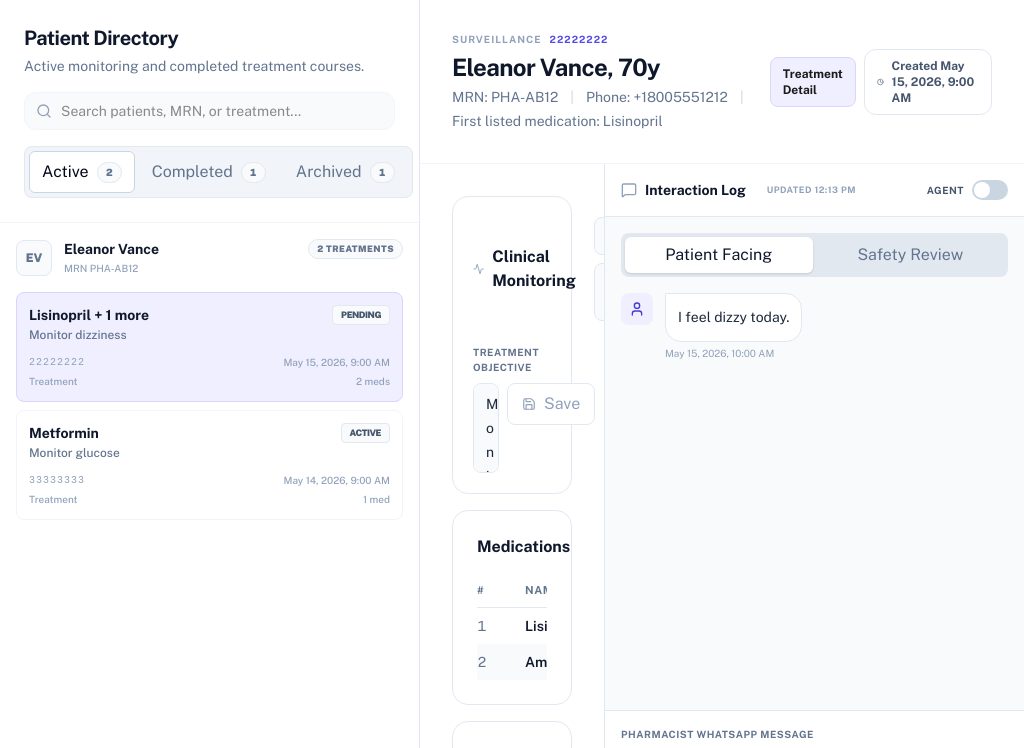
Test case: PatientManagementPage › separates completed treatments and links them to the report view
Expected: the text "Eleanor Vance" is shown, x1=64 y1=239 x2=159 y2=259
Expected: the text "Marcus Chen" is not shown
Step 1. Click the tab "Completed 1" → (209, 172), box x1=139 y1=151 x2=279 y2=193
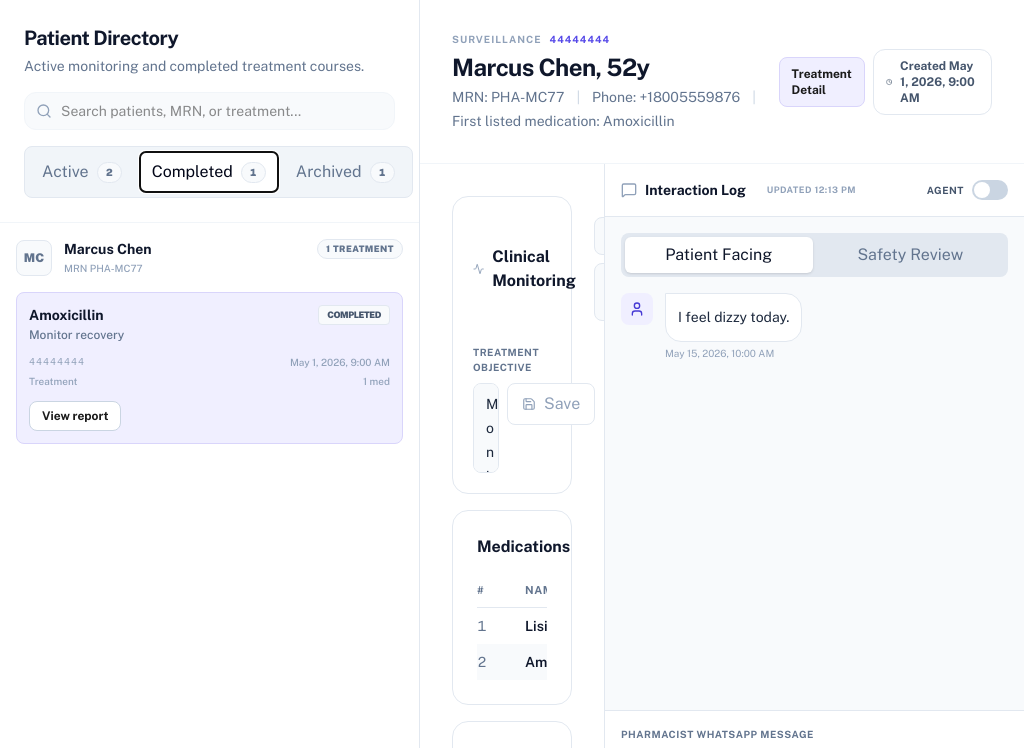
Now the text "Marcus Chen" is shown, box x1=64 y1=239 x2=152 y2=259
Now the text "Amoxicillin" is shown, box x1=29 y1=307 x2=104 y2=323
Now the text "Eleanor Vance" is gone
Step 2. Click the tab "Archived 1" → (345, 172), box x1=283 y1=151 x2=408 y2=193
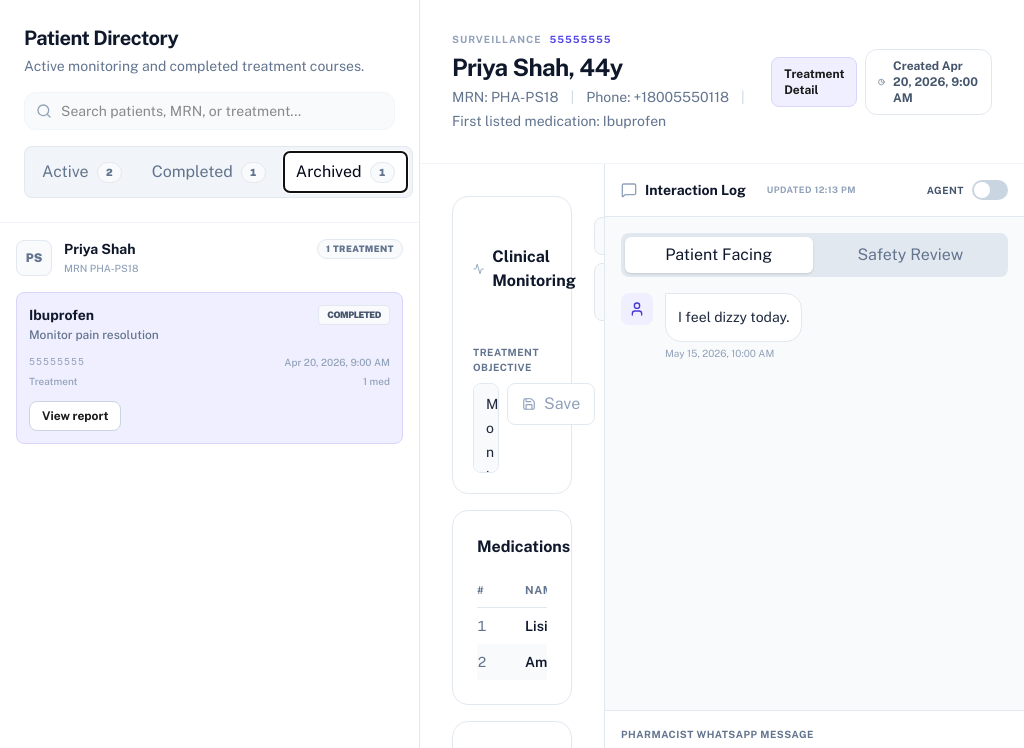
Now the text "Priya Shah" is shown, box x1=64 y1=239 x2=136 y2=259
Now the text "Ibuprofen" is shown, box x1=29 y1=307 x2=94 y2=323
Now the text "Marcus Chen" is gone
